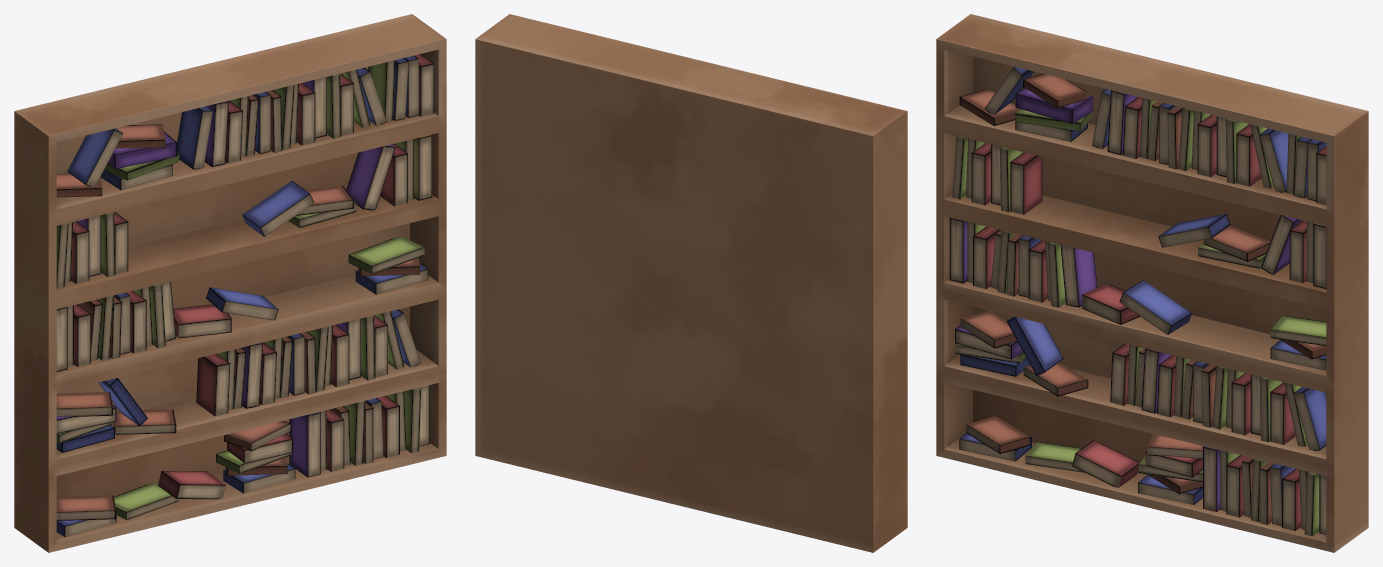
The model's file is Cabinet1.fbx.
The picture shows the model from 3 angles, left to right: view 1: azimuth 30°, elevation 25°; view 2: azimuth 150°, elevation 25°; view 3: azimuth 330°, elevation 25°; orthographic projection.
Parts seen in each view (by area): view 1: Cabinet1; view 2: Cabinet1; view 3: Cabinet1.
Boxes of the visible parts, x1,y1,x2,y2 form: Cabinet1: [14, 14, 446, 552]; Cabinet1: [475, 14, 907, 552]; Cabinet1: [936, 14, 1368, 552].
Size of the model in its own units: 2 by 2 by 0.3253.
Materials: 1 (1 with a texture image).
